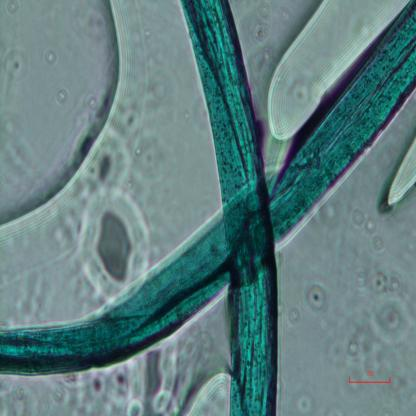Air bubble: (0, 0, 126, 228), (269, 0, 414, 143), (384, 127, 416, 211), (177, 369, 232, 416)
Background material: (341, 264, 407, 380), (79, 186, 147, 284), (126, 346, 192, 416), (86, 372, 134, 412), (352, 210, 389, 260), (91, 148, 131, 189), (247, 3, 272, 68), (118, 101, 152, 140), (0, 47, 37, 78), (293, 389, 316, 416), (307, 282, 326, 314), (44, 45, 60, 67), (53, 90, 70, 104)
Microfibre: (1, 2, 416, 379), (179, 0, 287, 416)
